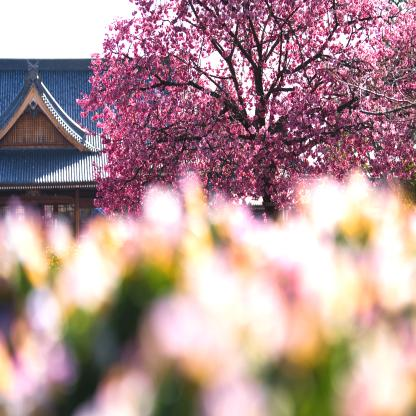KanhiSakura: (75, 0, 416, 222)
